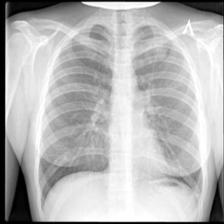tuberculosis: (31, 15, 209, 221)
